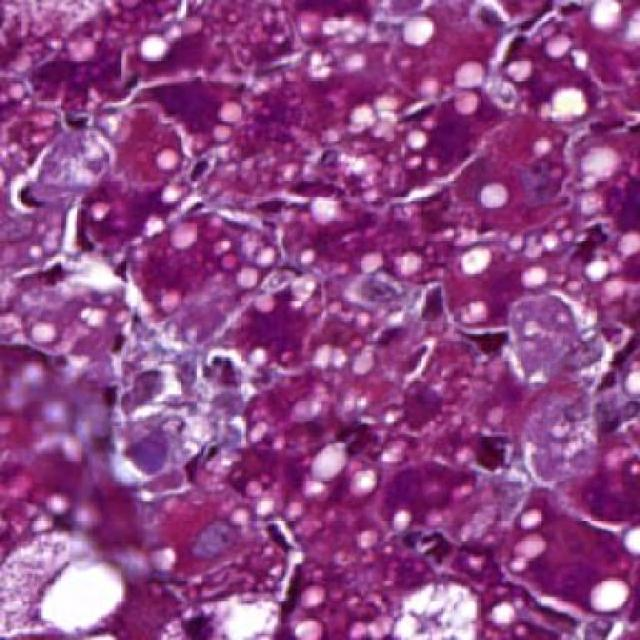ballooning: (9, 526, 130, 632), (394, 572, 482, 638)
